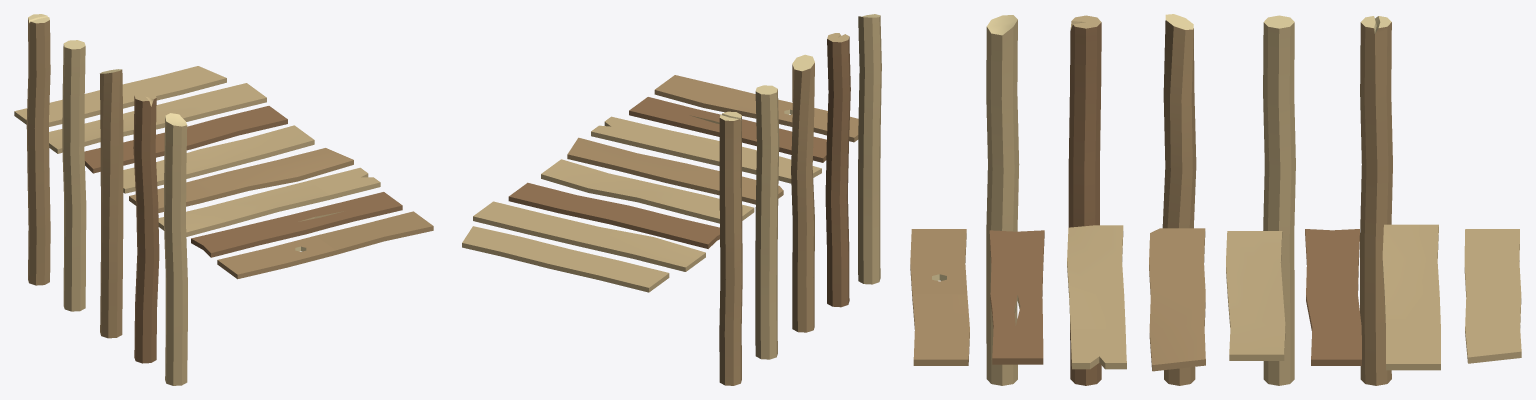
File: atoll_Dock01.fbx
3 renders of one model, left to right at view 1: azimuth 30°, elevation 25°; view 2: azimuth 150°, elevation 25°; view 3: azimuth 270°, elevation 25°, orthographic. The views are drawn at different scales.
Parts seen in each view (by area): view 1: Pillar1, Pillar3, Pillar2, Pillar5, Pillar4, Plank3, Plank1, Plank2, Plank4, Plank5, Plank7, Plank6 (+1 smaller); view 2: Pillar4, Pillar5, Pillar1, Pillar2, Pillar3, Plank7, Plank8, Plank6, Plank5, Plank4, Plank1, Plank3 (+1 smaller); view 3: Pillar5, Pillar4, Pillar3, Plank7, Plank1, Plank4, Plank3, Plank8, Pillar2, Plank5, Plank6, Pillar1 (+1 smaller).
Boxes of the visible parts, x1=… form: Pillar1: x1=100, y1=69, x2=123, y2=338; Pillar3: x1=164, y1=113, x2=187, y2=385; Pillar2: x1=133, y1=92, x2=159, y2=363; Pillar5: x1=26, y1=14, x2=50, y2=285; Pillar4: x1=62, y1=40, x2=86, y2=311; Plank3: x1=217, y1=211, x2=433, y2=279; Plank1: x1=158, y1=167, x2=380, y2=236; Plank2: x1=191, y1=192, x2=402, y2=257; Plank4: x1=129, y1=148, x2=353, y2=212; Plank5: x1=123, y1=125, x2=314, y2=193; Plank7: x1=49, y1=83, x2=266, y2=153; Plank6: x1=84, y1=106, x2=287, y2=173; Pillar4: x1=755, y1=85, x2=779, y2=359; Pillar5: x1=719, y1=111, x2=742, y2=385; Pillar1: x1=791, y1=54, x2=814, y2=332; Pillar2: x1=825, y1=33, x2=850, y2=307; Pillar3: x1=858, y1=14, x2=881, y2=284; Plank7: x1=473, y1=201, x2=705, y2=271; Plank8: x1=462, y1=226, x2=669, y2=292; Plank6: x1=508, y1=182, x2=719, y2=248; Plank5: x1=541, y1=159, x2=754, y2=223; Plank4: x1=567, y1=137, x2=783, y2=204; Plank1: x1=591, y1=116, x2=821, y2=183; Plank3: x1=654, y1=75, x2=858, y2=142; Pillar5: x1=1360, y1=16, x2=1392, y2=385; Pillar4: x1=1263, y1=15, x2=1295, y2=385; Pillar3: x1=986, y1=15, x2=1019, y2=385; Plank7: x1=1382, y1=224, x2=1440, y2=370; Plank1: x1=1067, y1=225, x2=1126, y2=369; Plank4: x1=1149, y1=228, x2=1205, y2=371; Plank3: x1=910, y1=229, x2=969, y2=365; Plank8: x1=1464, y1=229, x2=1521, y2=363; Pillar2: x1=1068, y1=15, x2=1101, y2=385; Plank5: x1=1226, y1=231, x2=1285, y2=360; Plank6: x1=1305, y1=229, x2=1361, y2=365; Pillar1: x1=1162, y1=14, x2=1196, y2=385.
Bounding box in the file's own units: 508 × 529 × 809.
